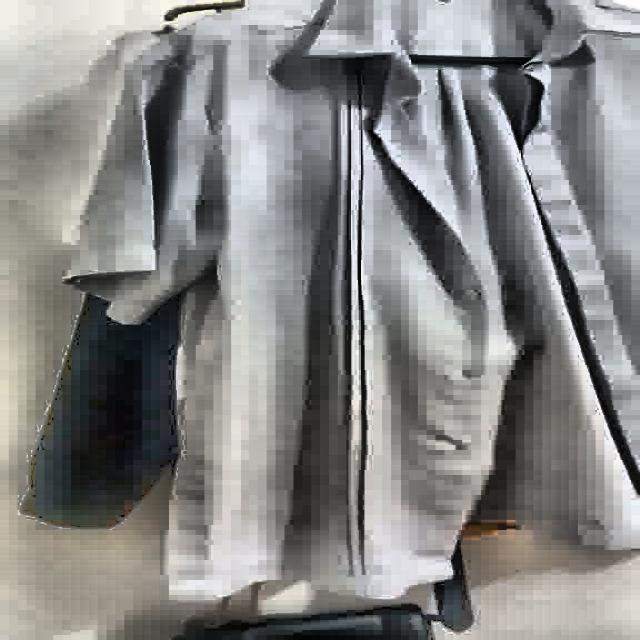clothes: (55, 0, 640, 596)
